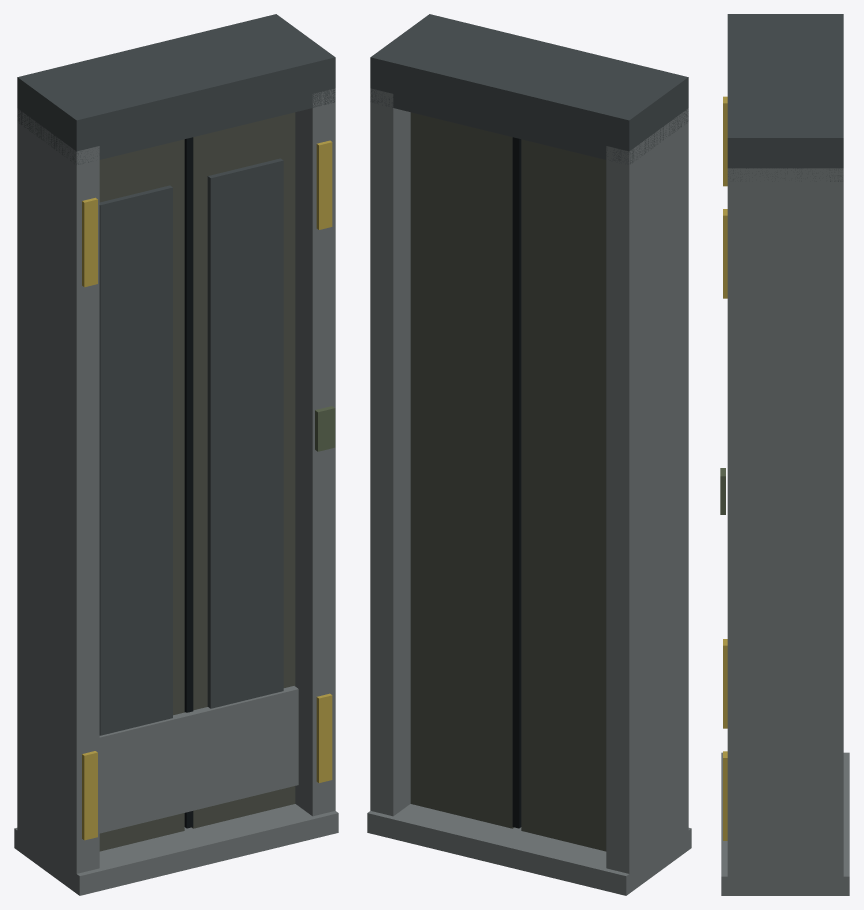
Rendered from CMU3DHybrisaPersonalAirlock.glb.
3 views of the same model, side by side, from view 1: azimuth 30°, elevation 25°; view 2: azimuth 150°, elevation 25°; view 3: azimuth 270°, elevation 25° (orthographic).
Visible parts, largest first — view 1: left door jamb, leaf inset right, leaf inset left, door lintel, right door jamb, right leaf, personal door kickplate, left leaf, threshold, center seam, jamb warning stripe (×4), lock indicator; view 2: right leaf, left door jamb, left leaf, right door jamb, door lintel, threshold, center seam; view 3: right door jamb, door lintel, threshold, jamb warning stripe (×4).
Part boxes in pixels (x1=…): left door jamb: x1=17, y1=108, x2=99, y2=893; leaf inset right: x1=207, y1=158, x2=283, y2=708; leaf inset left: x1=99, y1=185, x2=172, y2=735; door lintel: x1=17, y1=14, x2=335, y2=164; right door jamb: x1=295, y1=88, x2=335, y2=816; right leaf: x1=192, y1=112, x2=295, y2=828; personal door kickplate: x1=99, y1=686, x2=298, y2=833; left leaf: x1=99, y1=139, x2=184, y2=851; threshold: x1=14, y1=804, x2=338, y2=895; center seam: x1=184, y1=137, x2=193, y2=828; jamb warning stripe (×4): x1=82, y1=140, x2=332, y2=840; lock indicator: x1=315, y1=406, x2=335, y2=451; right leaf: x1=410, y1=112, x2=513, y2=828; left door jamb: x1=606, y1=108, x2=688, y2=880; left leaf: x1=521, y1=139, x2=606, y2=851; right door jamb: x1=370, y1=88, x2=410, y2=816; door lintel: x1=370, y1=14, x2=688, y2=164; threshold: x1=367, y1=804, x2=691, y2=895; center seam: x1=512, y1=137, x2=521, y2=828; right door jamb: x1=727, y1=168, x2=843, y2=895; door lintel: x1=727, y1=14, x2=843, y2=181; threshold: x1=721, y1=752, x2=849, y2=895; jamb warning stripe (×4): x1=723, y1=96, x2=727, y2=840.
Size of the model in its own units: 0.96 by 2.74 by 0.424.
